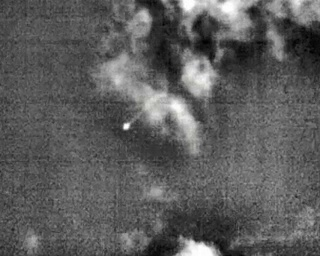AIRPLANE: (120, 119, 133, 134)
